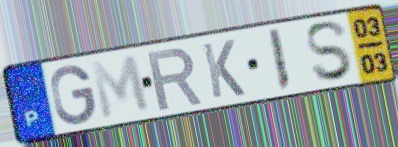G: (48, 63, 98, 127)
I: (266, 26, 294, 94)
K: (199, 38, 248, 101)
M: (88, 52, 153, 123)
R: (144, 45, 206, 113)
S: (303, 18, 356, 84)
